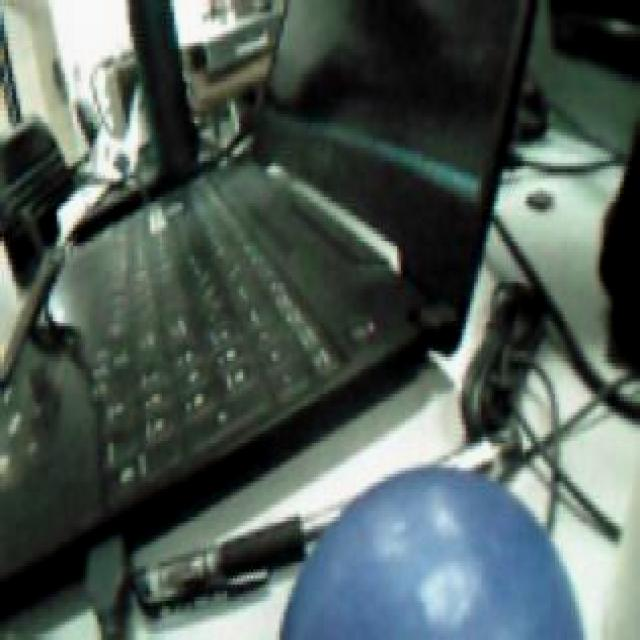BallPurple: (280, 464, 582, 640)
